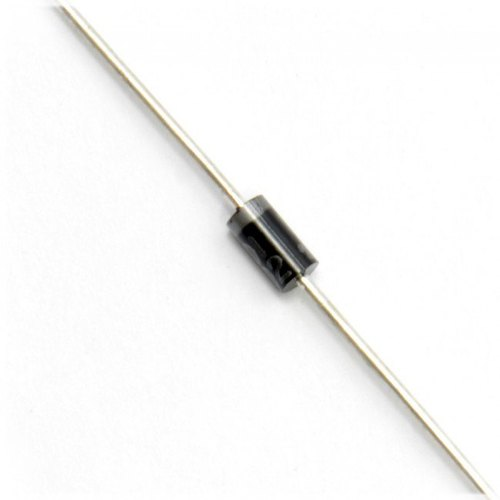Diode: (226, 195, 319, 293)
